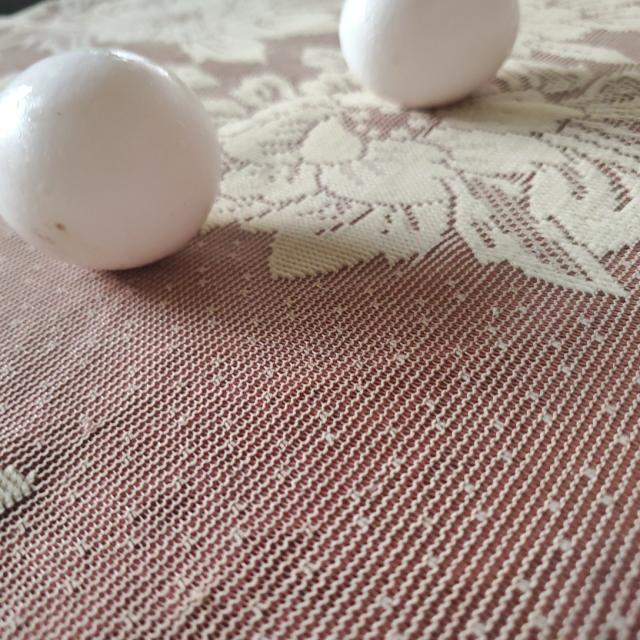egg: (3, 42, 228, 267), (336, 0, 518, 107)
